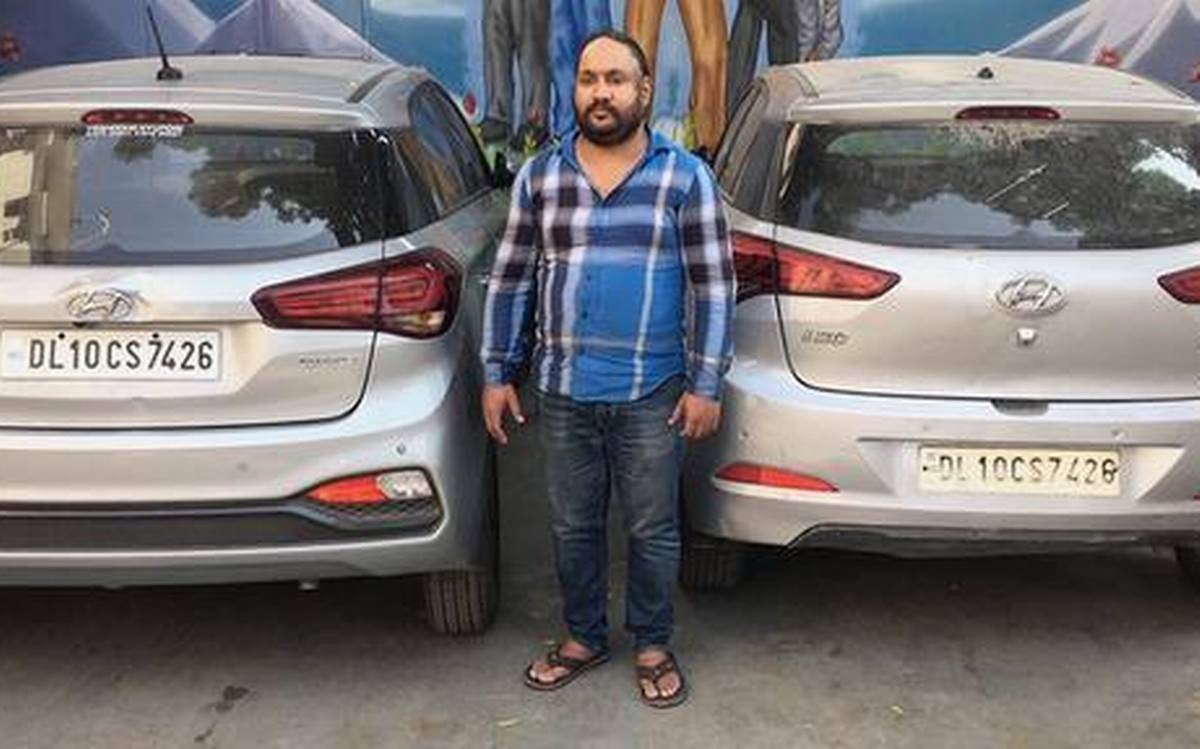numberplate: (4, 326, 222, 383), (916, 442, 1132, 497)
